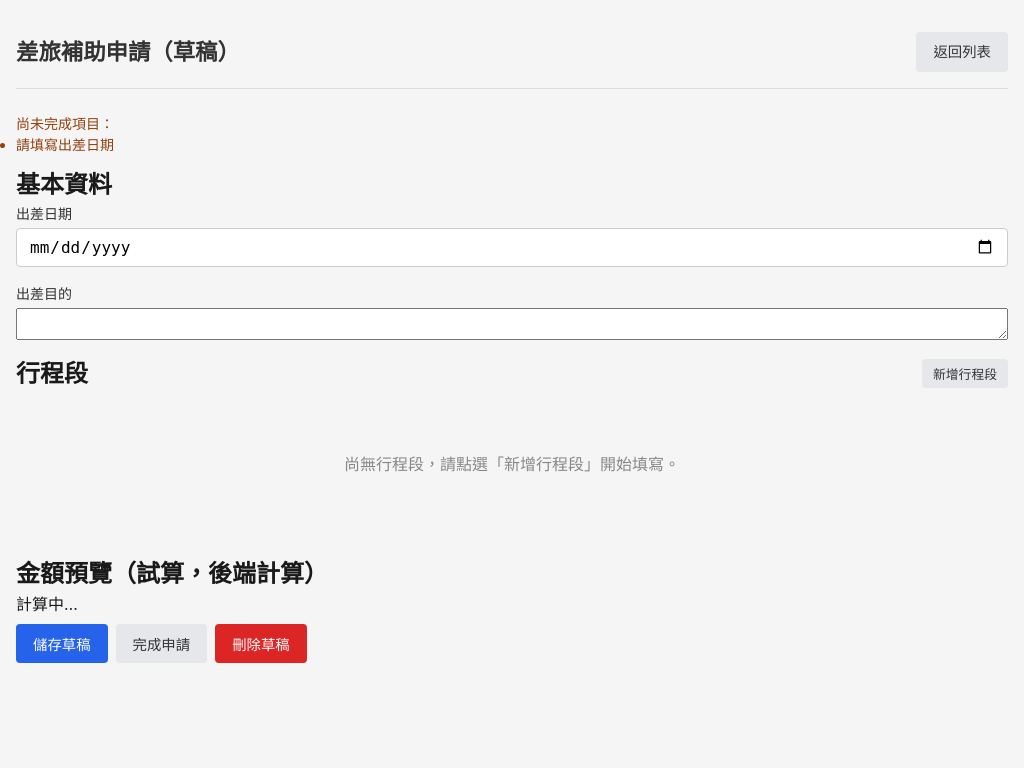
TravelApplicationPage › 新增行程段 → 出現獨立區塊；移除行程段需二次確認（C4）
The image size is (1024, 768).
expect the date field labelled "出差日期" is shown: met, box [16,228,1008,267]
Step 1. Click the button "新增行程段" → (965, 374), box [922,359,1008,388]
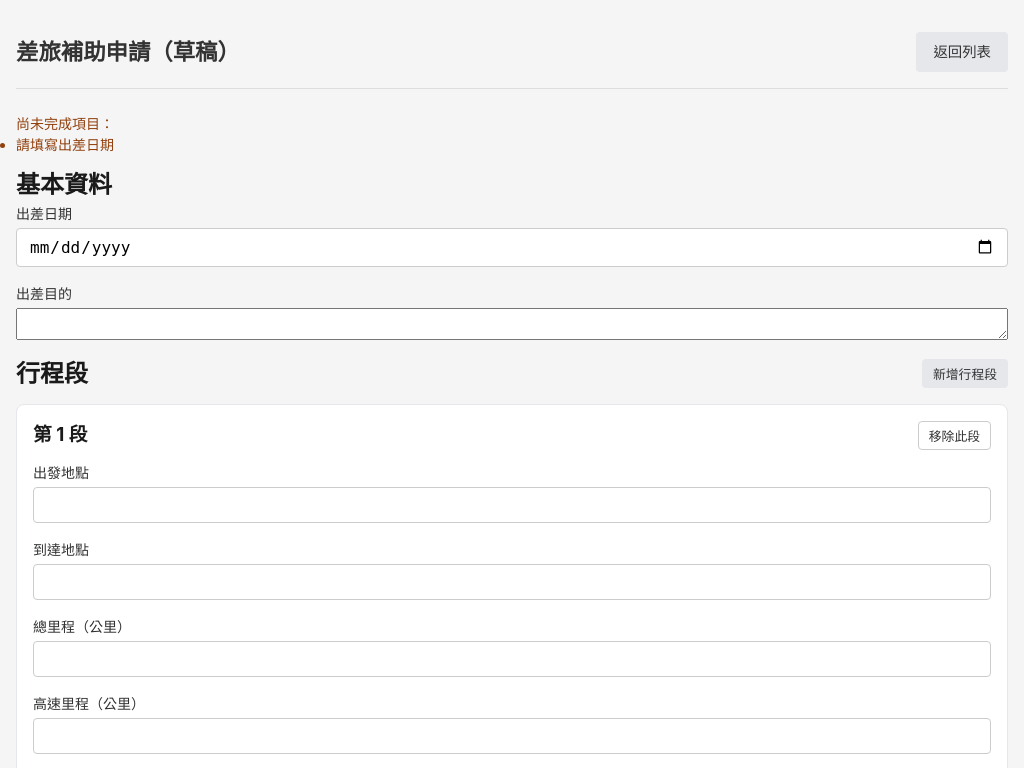
expect the heading "第 1 段" is shown: met, box [33,421,87,449]
expect the field labelled "出發地點" is shown: met, box [33,487,991,523]
Step 2. Click the button "移除此段" → (954, 435), box [918,421,991,450]
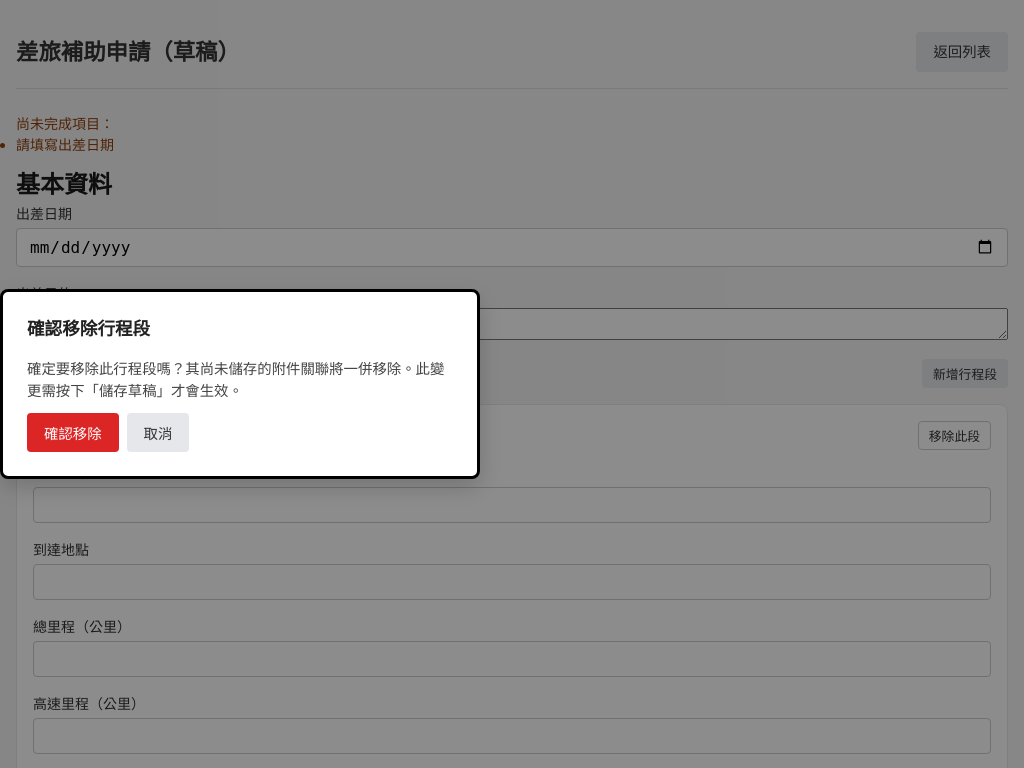
expect the dialog "確認移除行程段" is shown: met, box [0,289,480,479]
取消 → 段落仍在
Step 3. Click the button "取消" → (158, 433), box [127,413,189,452]
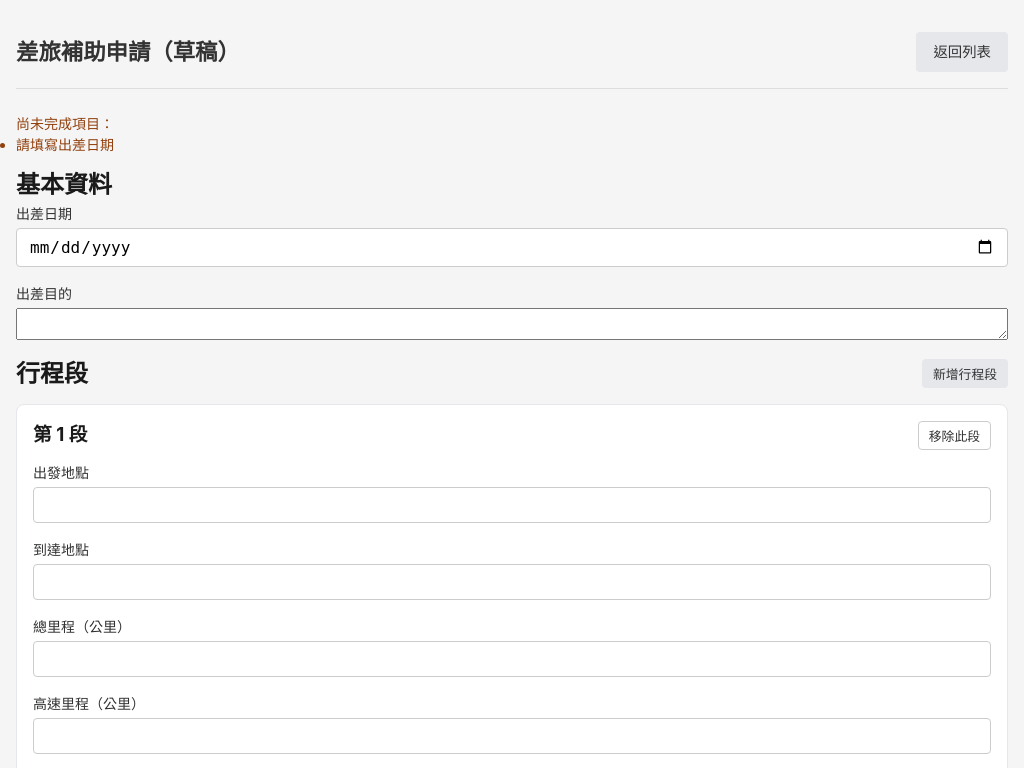
expect the heading "第 1 段" is shown: met, box [33,421,87,449]
再次移除並確認 → 段落消失
Step 4. Click the button "移除此段" → (954, 435), box [918,421,991,450]
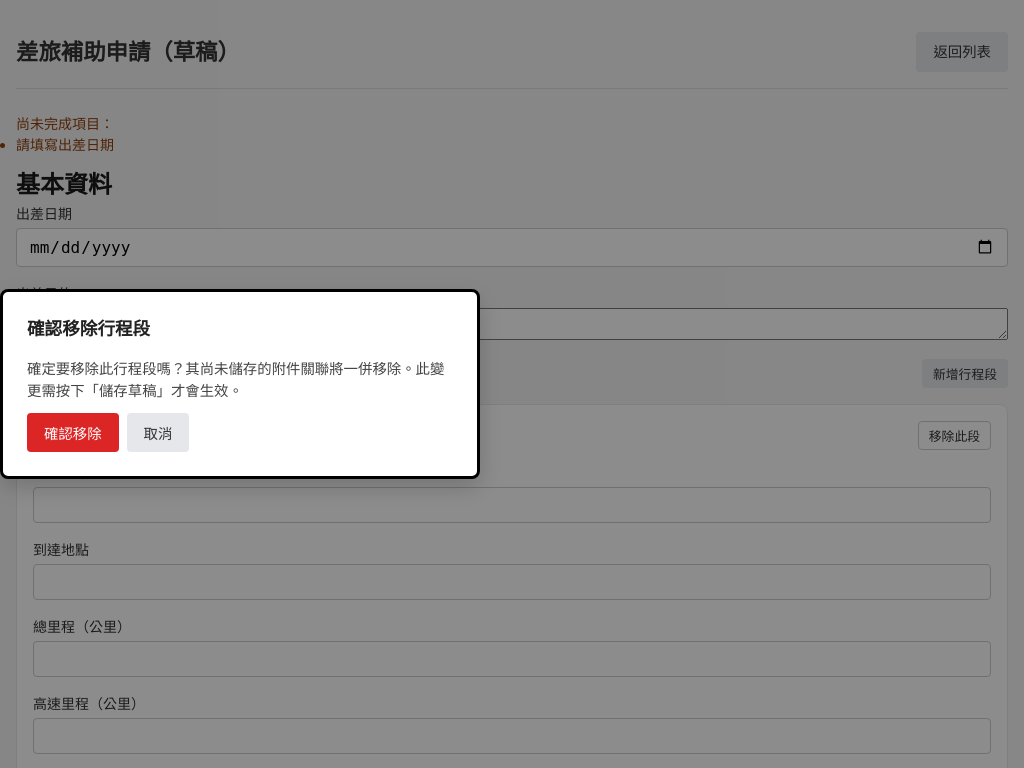
Step 5. Click the button "確認移除" → (73, 433), box [27,413,119,452]
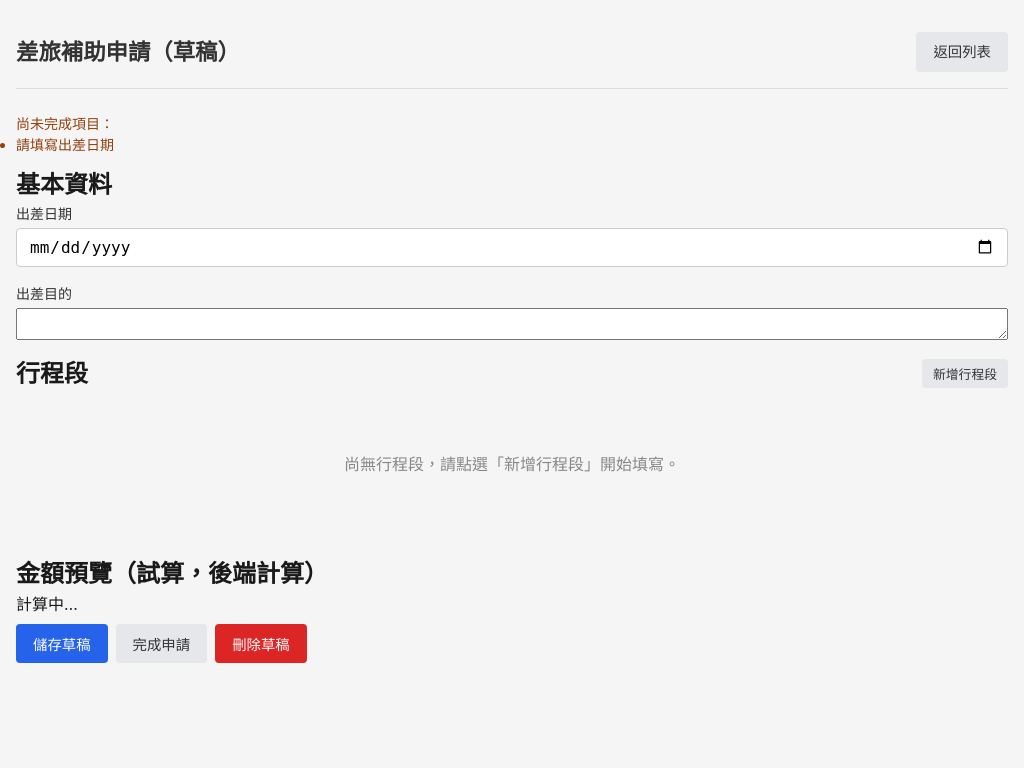
expect the heading "第 1 段" is gone: met
